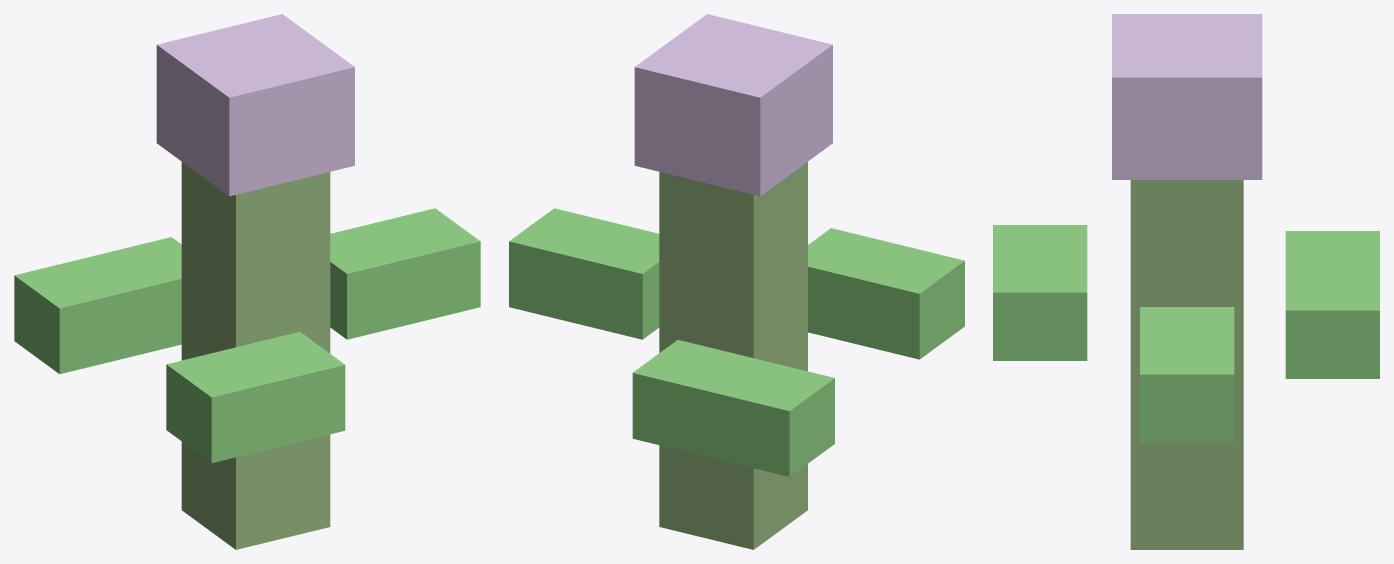
File: Prop_Herb_AMF_Snoutsage_V1.glb
3 views of the same model, side by side, from view 1: azimuth 30°, elevation 25°; view 2: azimuth 150°, elevation 25°; view 3: azimuth 270°, elevation 25° (orthographic). The views are drawn at different scales.
Parts seen in each view (by area): view 1: Prop_Herb_AMF_Snoutsage_V1; view 2: Prop_Herb_AMF_Snoutsage_V1; view 3: Prop_Herb_AMF_Snoutsage_V1.
Boxes of the visible parts, bbox=[...] form: Prop_Herb_AMF_Snoutsage_V1: bbox=[14, 14, 480, 549]; Prop_Herb_AMF_Snoutsage_V1: bbox=[509, 14, 964, 549]; Prop_Herb_AMF_Snoutsage_V1: bbox=[993, 14, 1379, 549].
Size of the model in its own units: 0.2233 by 0.2814 by 0.2054.
